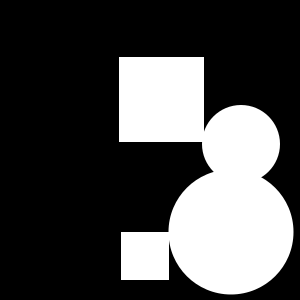circle: (119, 57, 204, 142), (121, 232, 169, 280)
rectangle: (168, 169, 294, 294), (202, 105, 280, 183)
